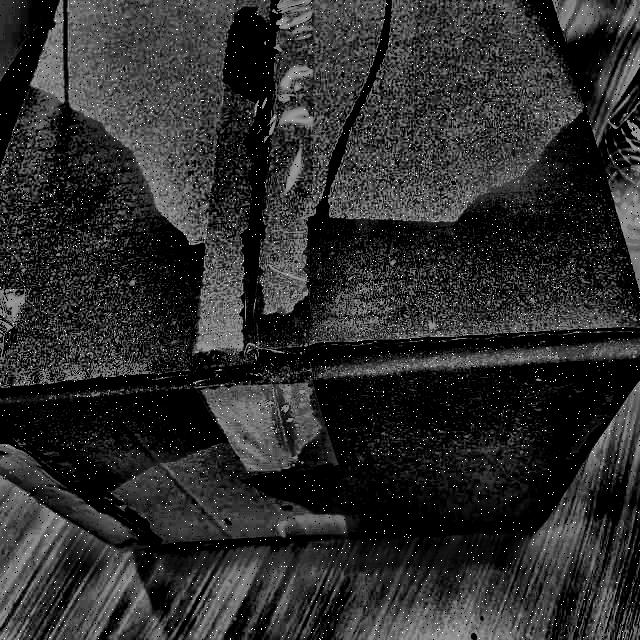box: (1, 0, 640, 567)
wet: (299, 125, 636, 551), (0, 91, 209, 494)
